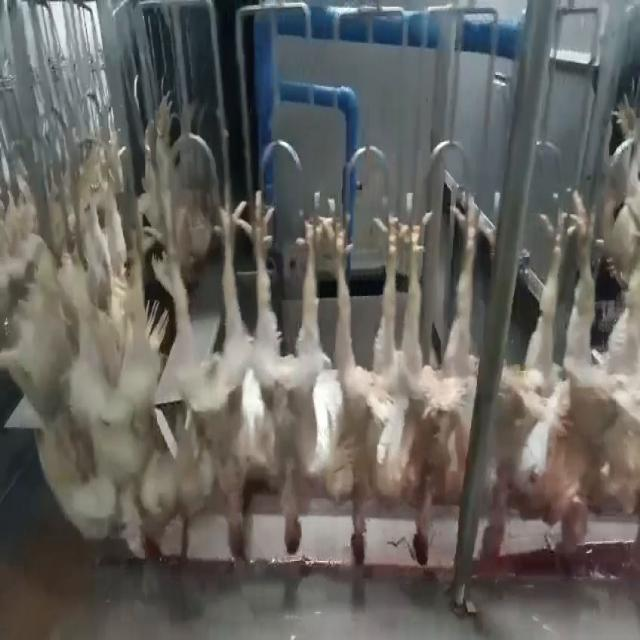chicken: (501, 203, 604, 564), (389, 195, 488, 570), (100, 192, 182, 567), (185, 182, 254, 563), (256, 190, 326, 555), (331, 213, 396, 564), (38, 225, 91, 482), (600, 255, 637, 512)
